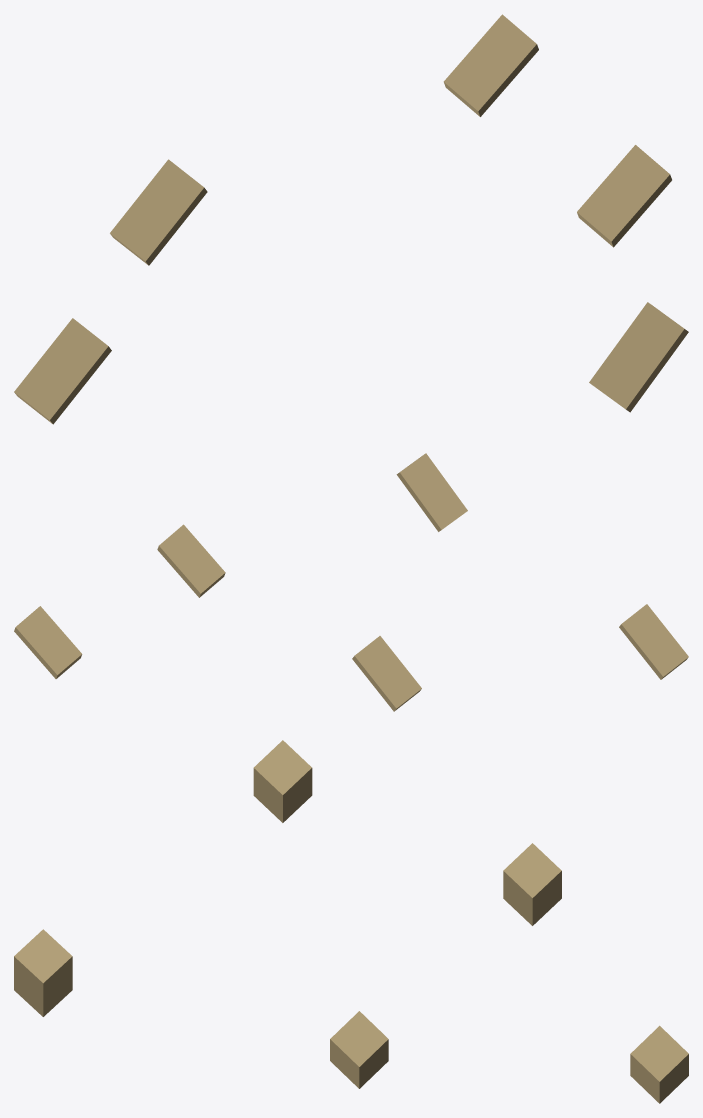
The model's file is plant_wild_root_dormant.glb.
The picture shows the model from 3 angles, top to bottom: view 1: azimuth 30°, elevation 25°; view 2: azimuth 150°, elevation 25°; view 3: azimuth 270°, elevation 25°; orthographic projection. The views are drawn at different scales.
Visible parts, largest first — view 1: plant_wild_root_dormant; view 2: plant_wild_root_dormant; view 3: plant_wild_root_dormant.
Boxes of the visible parts, x1,y1,x2,y2 form: plant_wild_root_dormant: (14,14,688,424); plant_wild_root_dormant: (14,453,688,711); plant_wild_root_dormant: (14,740,688,1103).
Size of the model in its own units: 0.3128 by 0.0442 by 0.2765.
